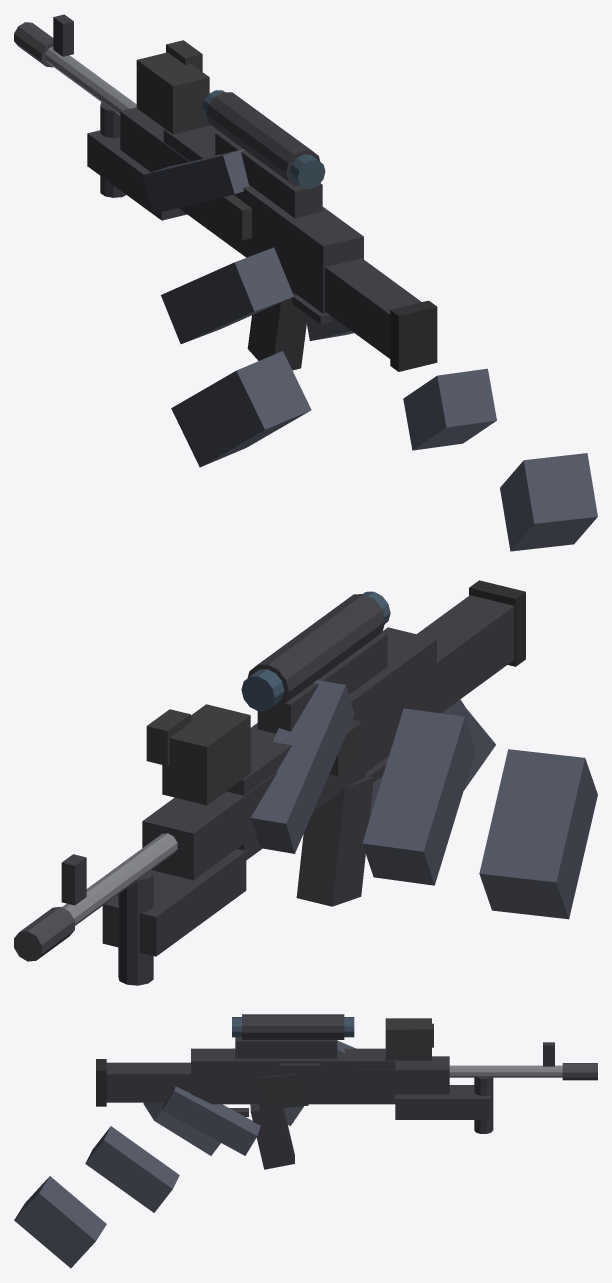
File: AUG.glb
3 renders of one model, top to bottom at view 1: azimuth 30°, elevation 25°; view 2: azimuth 150°, elevation 25°; view 3: azimuth 270°, elevation 25°, orthographic. The views are drawn at different scales.
Visible parts, largest first — view 1: arms, AUG; view 2: AUG, arms; view 3: AUG, arms.
Part boxes in pixels (left/top/right/bottom): arms: left=136, top=40, right=597, bottom=551; AUG: left=14, top=14, right=437, bottom=371; AUG: left=14, top=580, right=525, bottom=985; arms: left=146, top=680, right=597, bottom=919; AUG: left=96, top=1014, right=597, bottom=1169; arms: left=14, top=1018, right=433, bottom=1268.
Size of the model in its own units: 0.3162 by 0.3413 by 0.8583.
